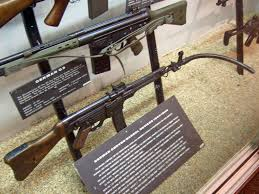gun: (2, 52, 256, 181), (0, 0, 186, 77)
